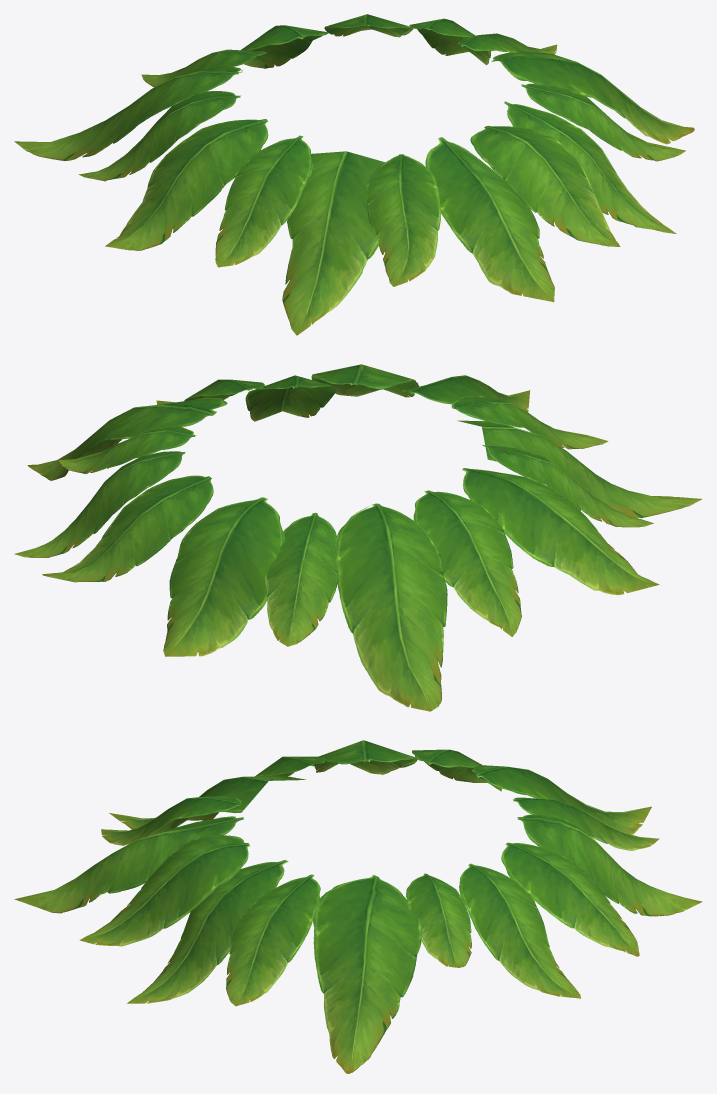
Rendered from Homeworld_Exterior_Xm_Build_House_04_01_Lod0.fbx.
3 renders of one model, top to bottom at view 1: azimuth 30°, elevation 25°; view 2: azimuth 150°, elevation 25°; view 3: azimuth 270°, elevation 25°, orthographic. The views are drawn at different scales.
Parts seen in each view (by area): view 1: Homeworld_Exterior_Xm_Build_House_04_01_Lod0; view 2: Homeworld_Exterior_Xm_Build_House_04_01_Lod0; view 3: Homeworld_Exterior_Xm_Build_House_04_01_Lod0.
Boxes of the visible parts, left/top/right/bottom form: Homeworld_Exterior_Xm_Build_House_04_01_Lod0: left=14, top=14, right=694, bottom=335; Homeworld_Exterior_Xm_Build_House_04_01_Lod0: left=14, top=364, right=702, bottom=711; Homeworld_Exterior_Xm_Build_House_04_01_Lod0: left=14, top=740, right=702, bottom=1073.
Bounding box in the file's own units: 10.44 × 1.81 × 10.29.
